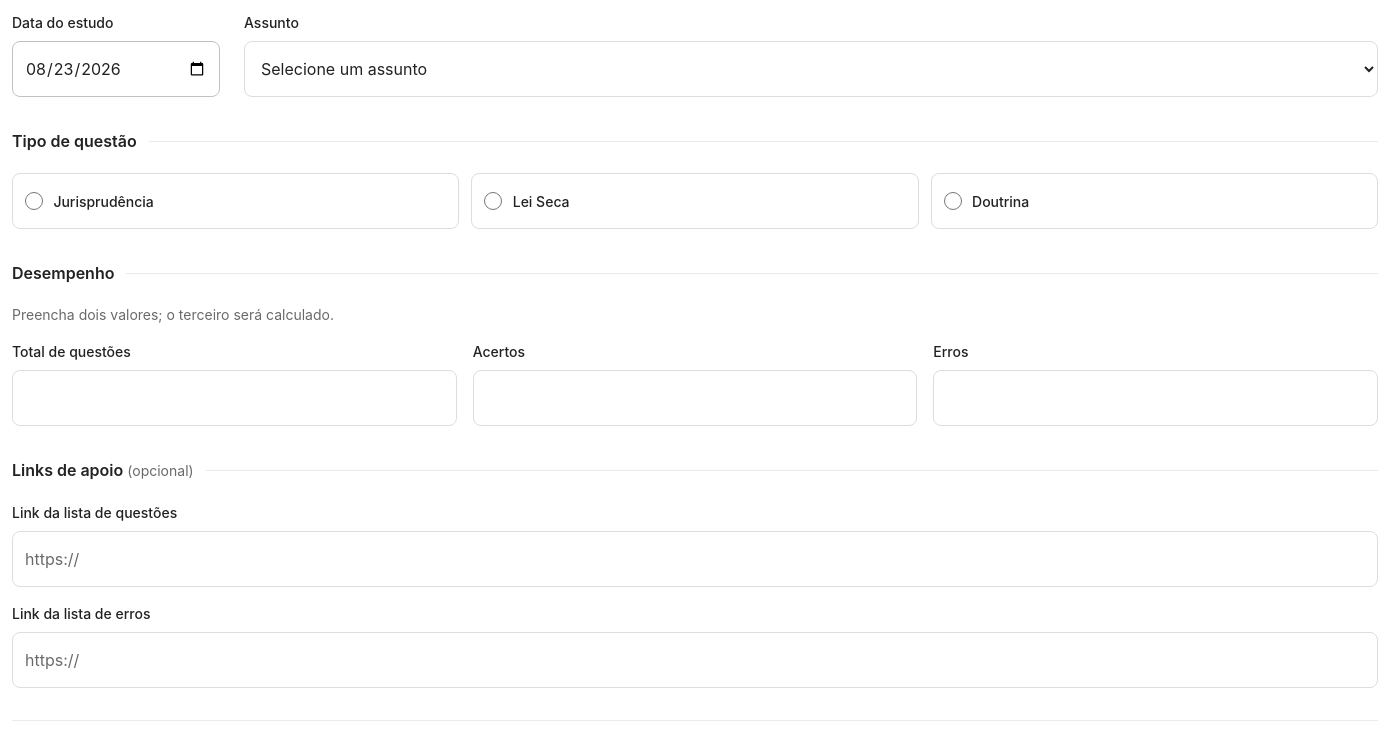
Test: SessionForm › calculates errors from total and correct answers
The width and height of the screenshot is (1390, 738).
In the number field labelled "Total de questões": (234, 398) [12, 370, 457, 426], type "50"
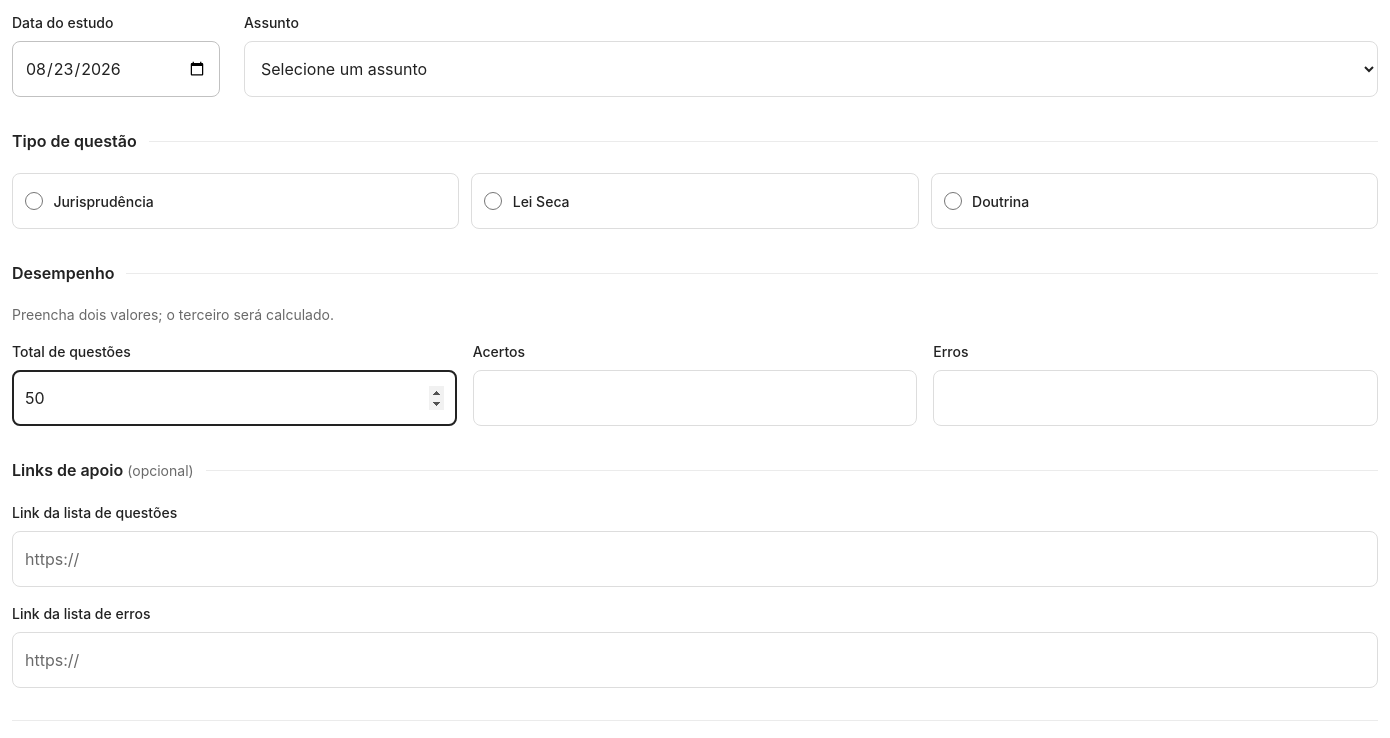
In the number field labelled "Acertos": (695, 398) [473, 370, 917, 426], type "30"
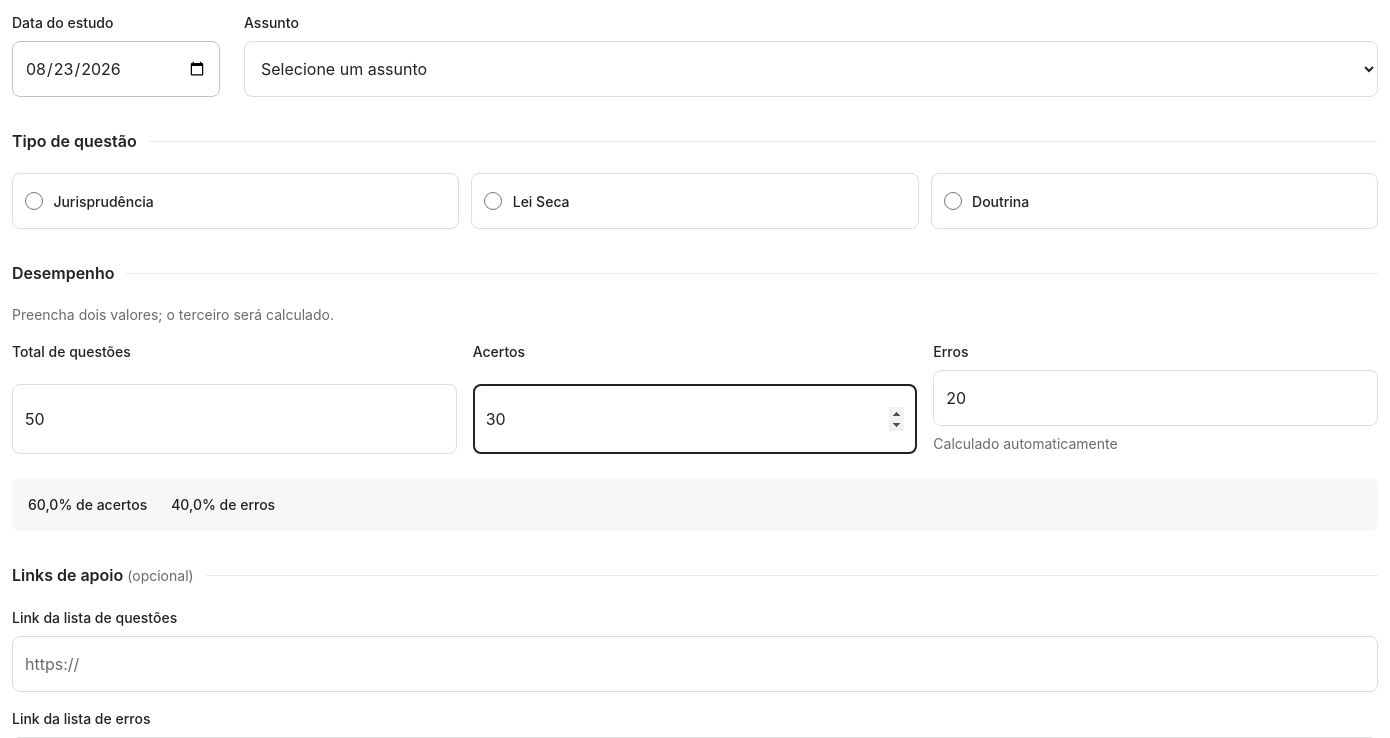
Now the number field labelled "Erros" holds "20", box [933, 370, 1378, 426]
Now the text "Calculado automaticamente" is shown, box [933, 435, 1118, 452]
Now the text "60,0% de acertos" is shown, box [28, 494, 147, 515]
